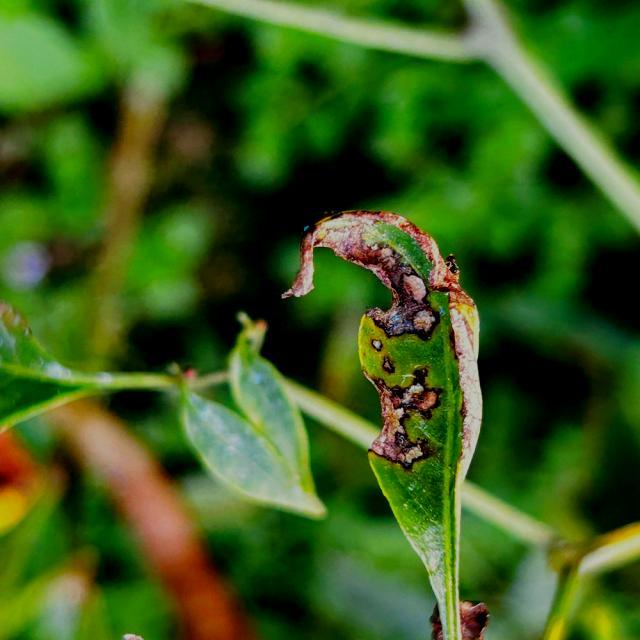Bercak Daun Serkospora: (281, 210, 488, 640)
